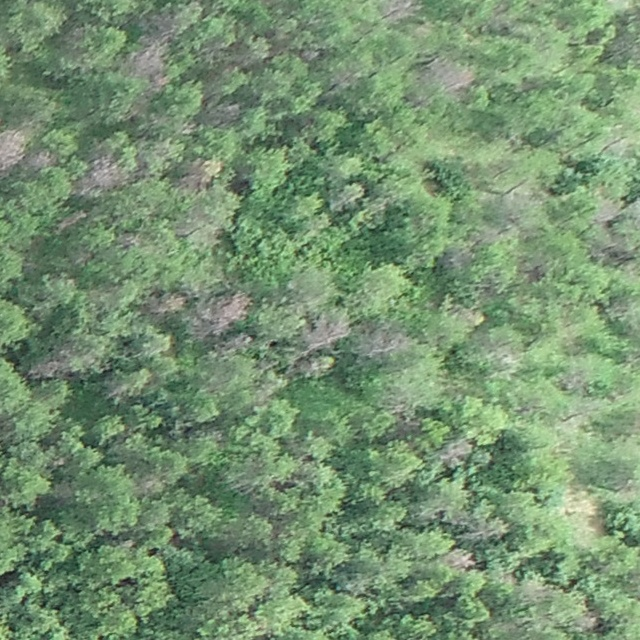unhealthy: (188, 290, 250, 337), (443, 503, 510, 540), (75, 158, 129, 194), (355, 324, 408, 358), (429, 56, 476, 91), (124, 39, 167, 77), (304, 315, 353, 347), (179, 156, 221, 187), (28, 351, 75, 377), (140, 7, 178, 37), (142, 292, 189, 313), (253, 371, 287, 399), (483, 337, 519, 363), (0, 130, 23, 167), (383, 390, 413, 418), (299, 355, 335, 378), (443, 438, 472, 466), (55, 209, 87, 234), (523, 577, 556, 601), (443, 546, 475, 570), (134, 474, 163, 498), (594, 199, 624, 222), (220, 332, 252, 353), (384, 0, 418, 18), (30, 147, 57, 169), (453, 306, 483, 325), (561, 370, 584, 394), (443, 248, 468, 267), (575, 609, 598, 629), (52, 481, 75, 501), (477, 227, 503, 243), (117, 231, 141, 248), (150, 73, 170, 91), (224, 103, 239, 125), (299, 50, 320, 62)
